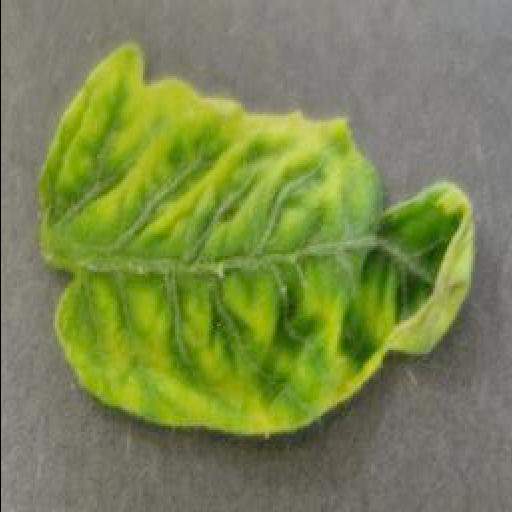disease_tomato: (32, 44, 476, 438)
